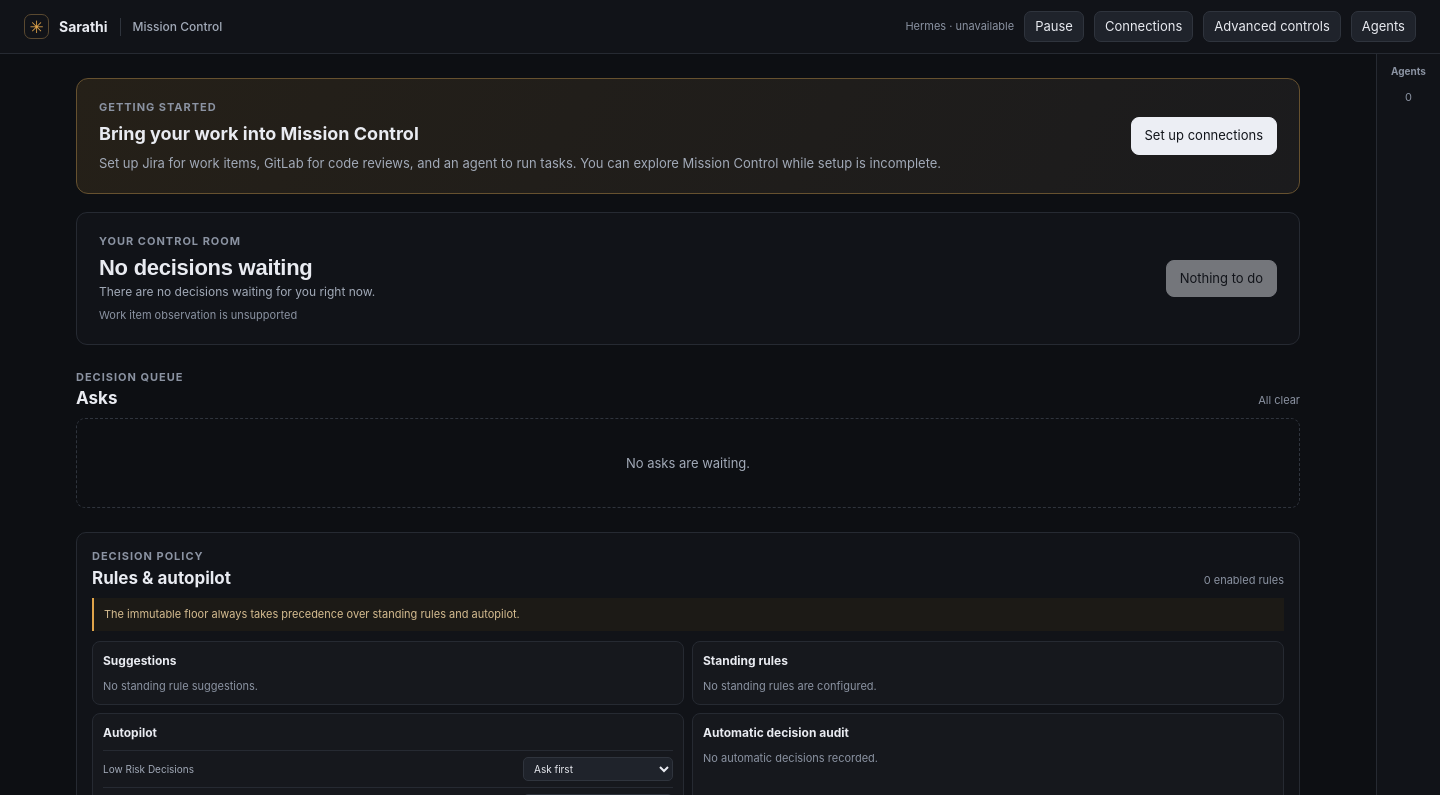
App › renders the agent list with name and health from the BFF
Click the button "Agents".
click(1383, 27)  # box [1351, 11, 1416, 42]
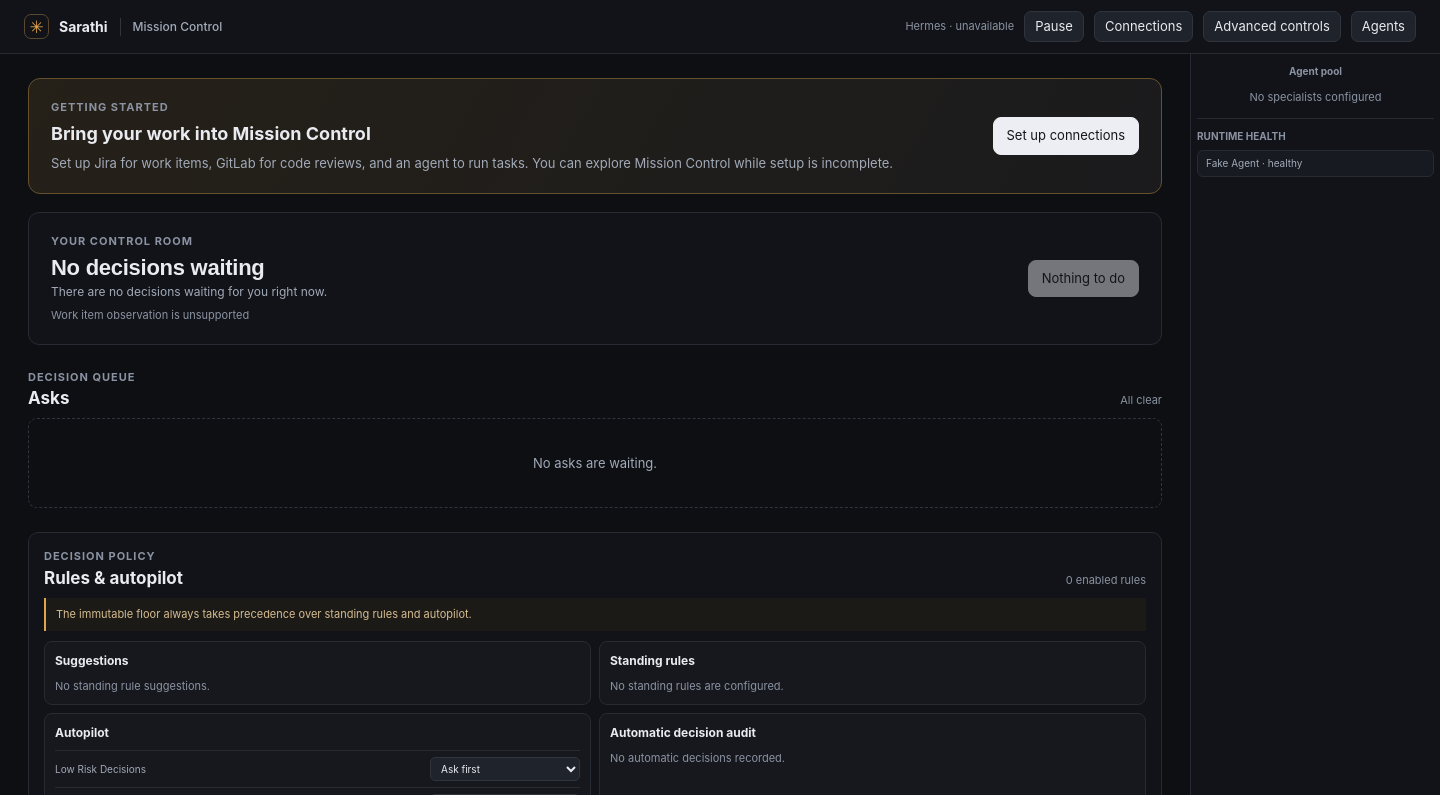
Expected: the button "Fake Agent · healthy" is shown, [1197, 150, 1434, 176]
